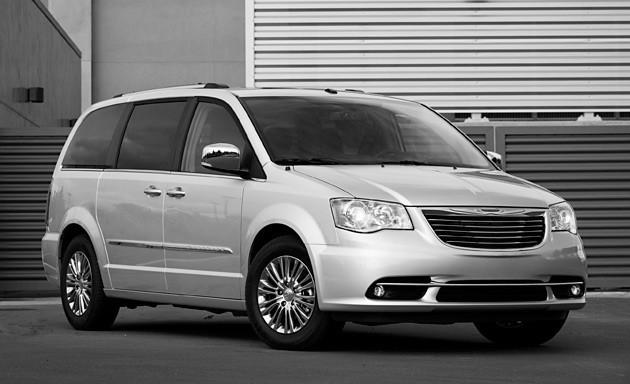car: (41, 79, 593, 355)
